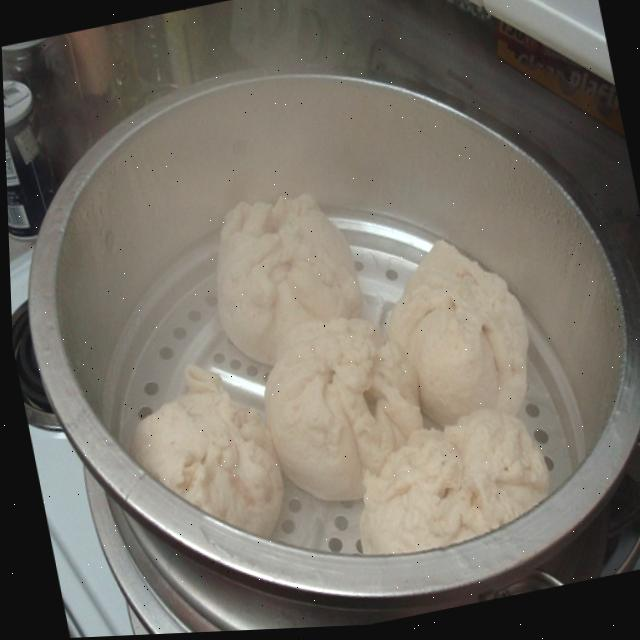带馅早点: (6, 17, 638, 640)
